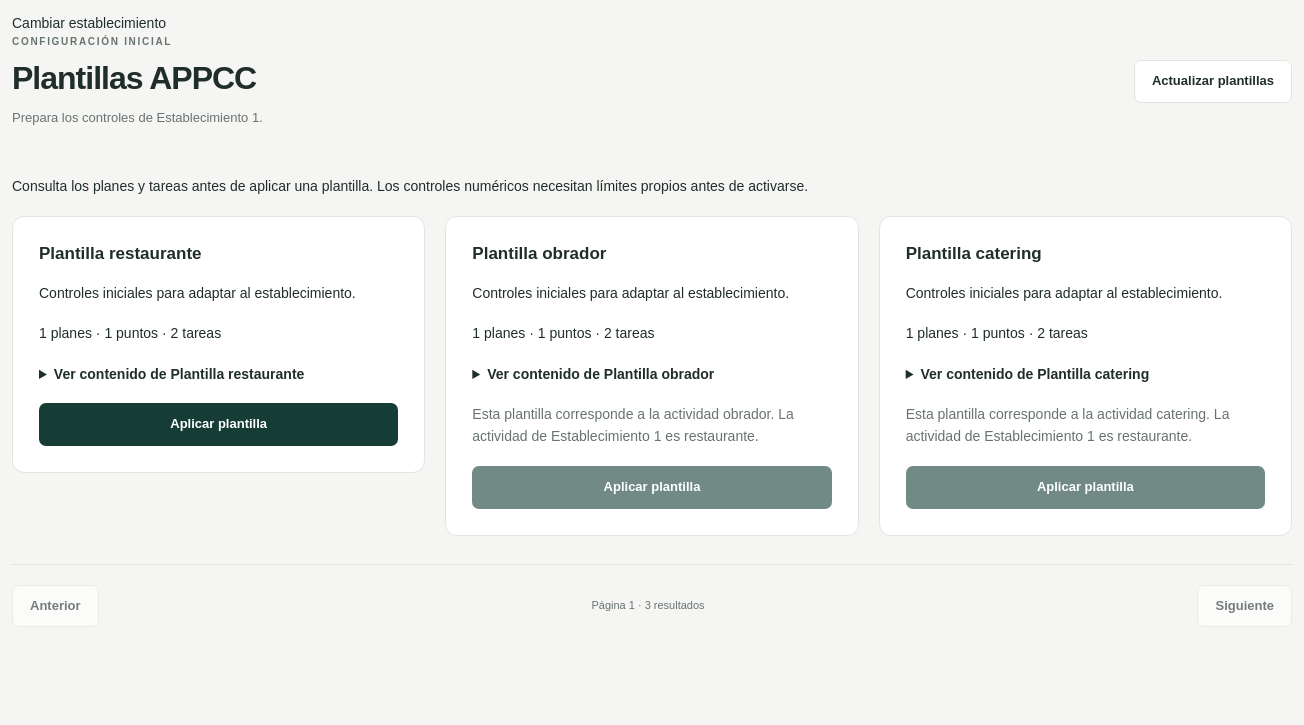
it: error 403 aplicando sin reenvío automático
The image size is (1304, 725).
Click the button with aria-label "Aplicar Plantilla restaurante".
click(219, 424)  # box [39,403,398,446]
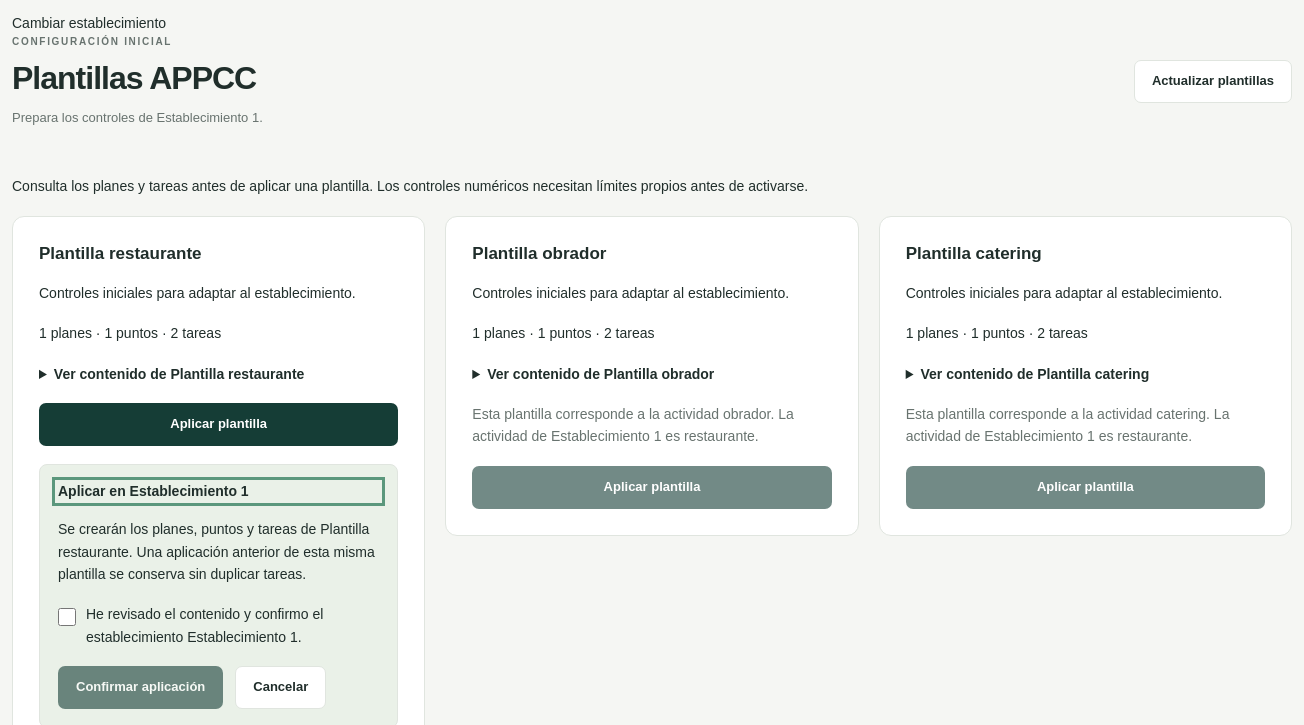
Click the checkbox labelled "He revisado".
click(67, 618)  # box [58,608,76,626]
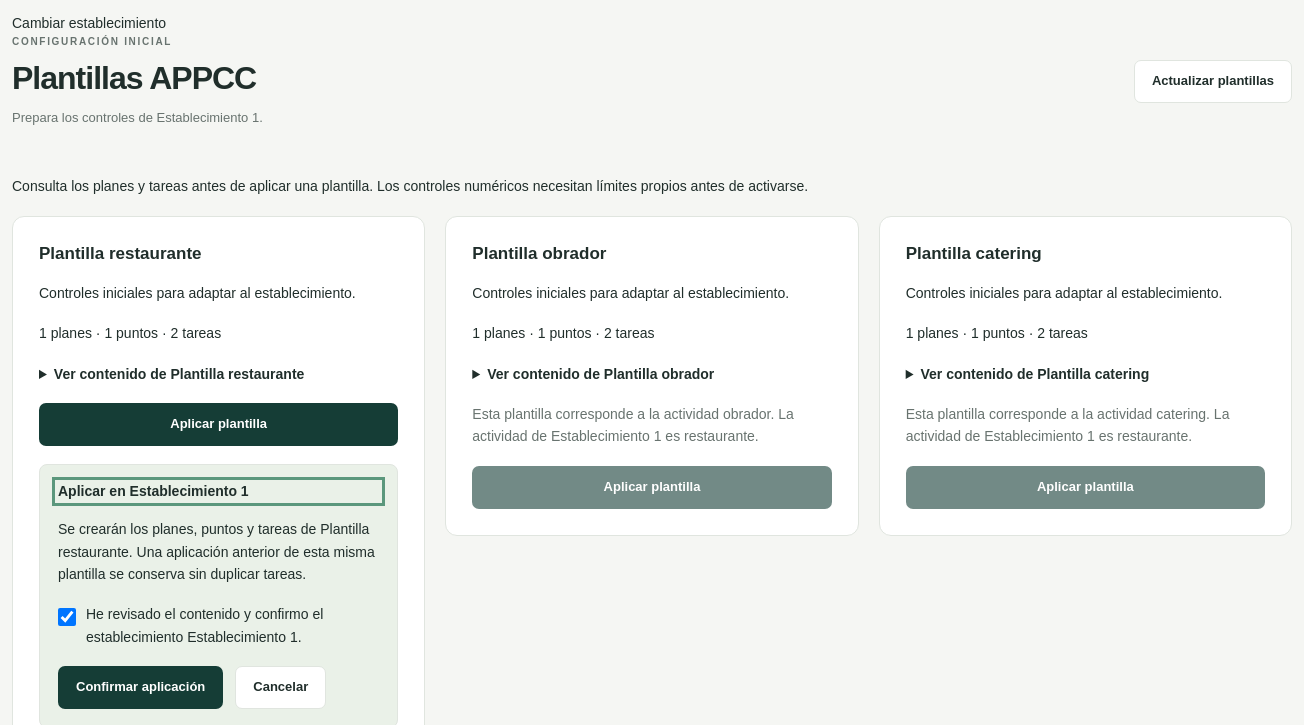
Click the button "Confirmar aplicación".
click(141, 688)  # box [58,666,223,709]
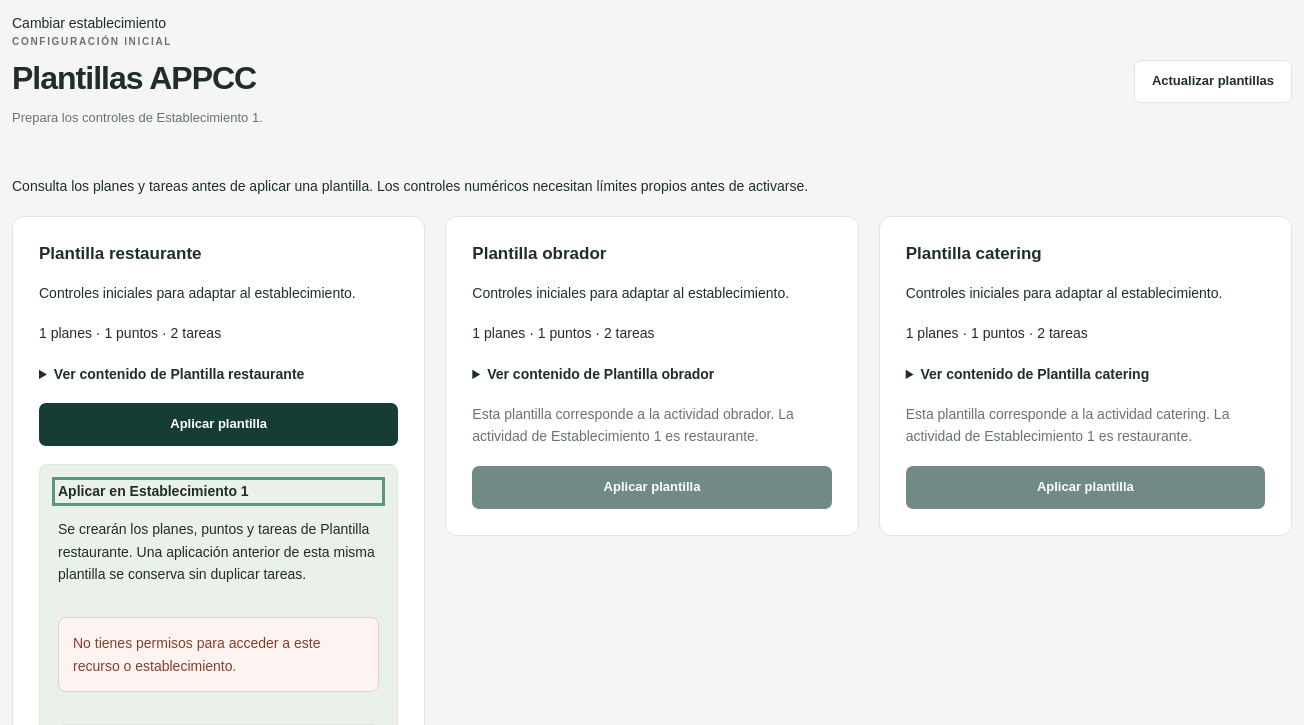
Now the message "No tienes permisos para acceder a este recurso o establecimiento." is shown, box [58,618,379,692]
